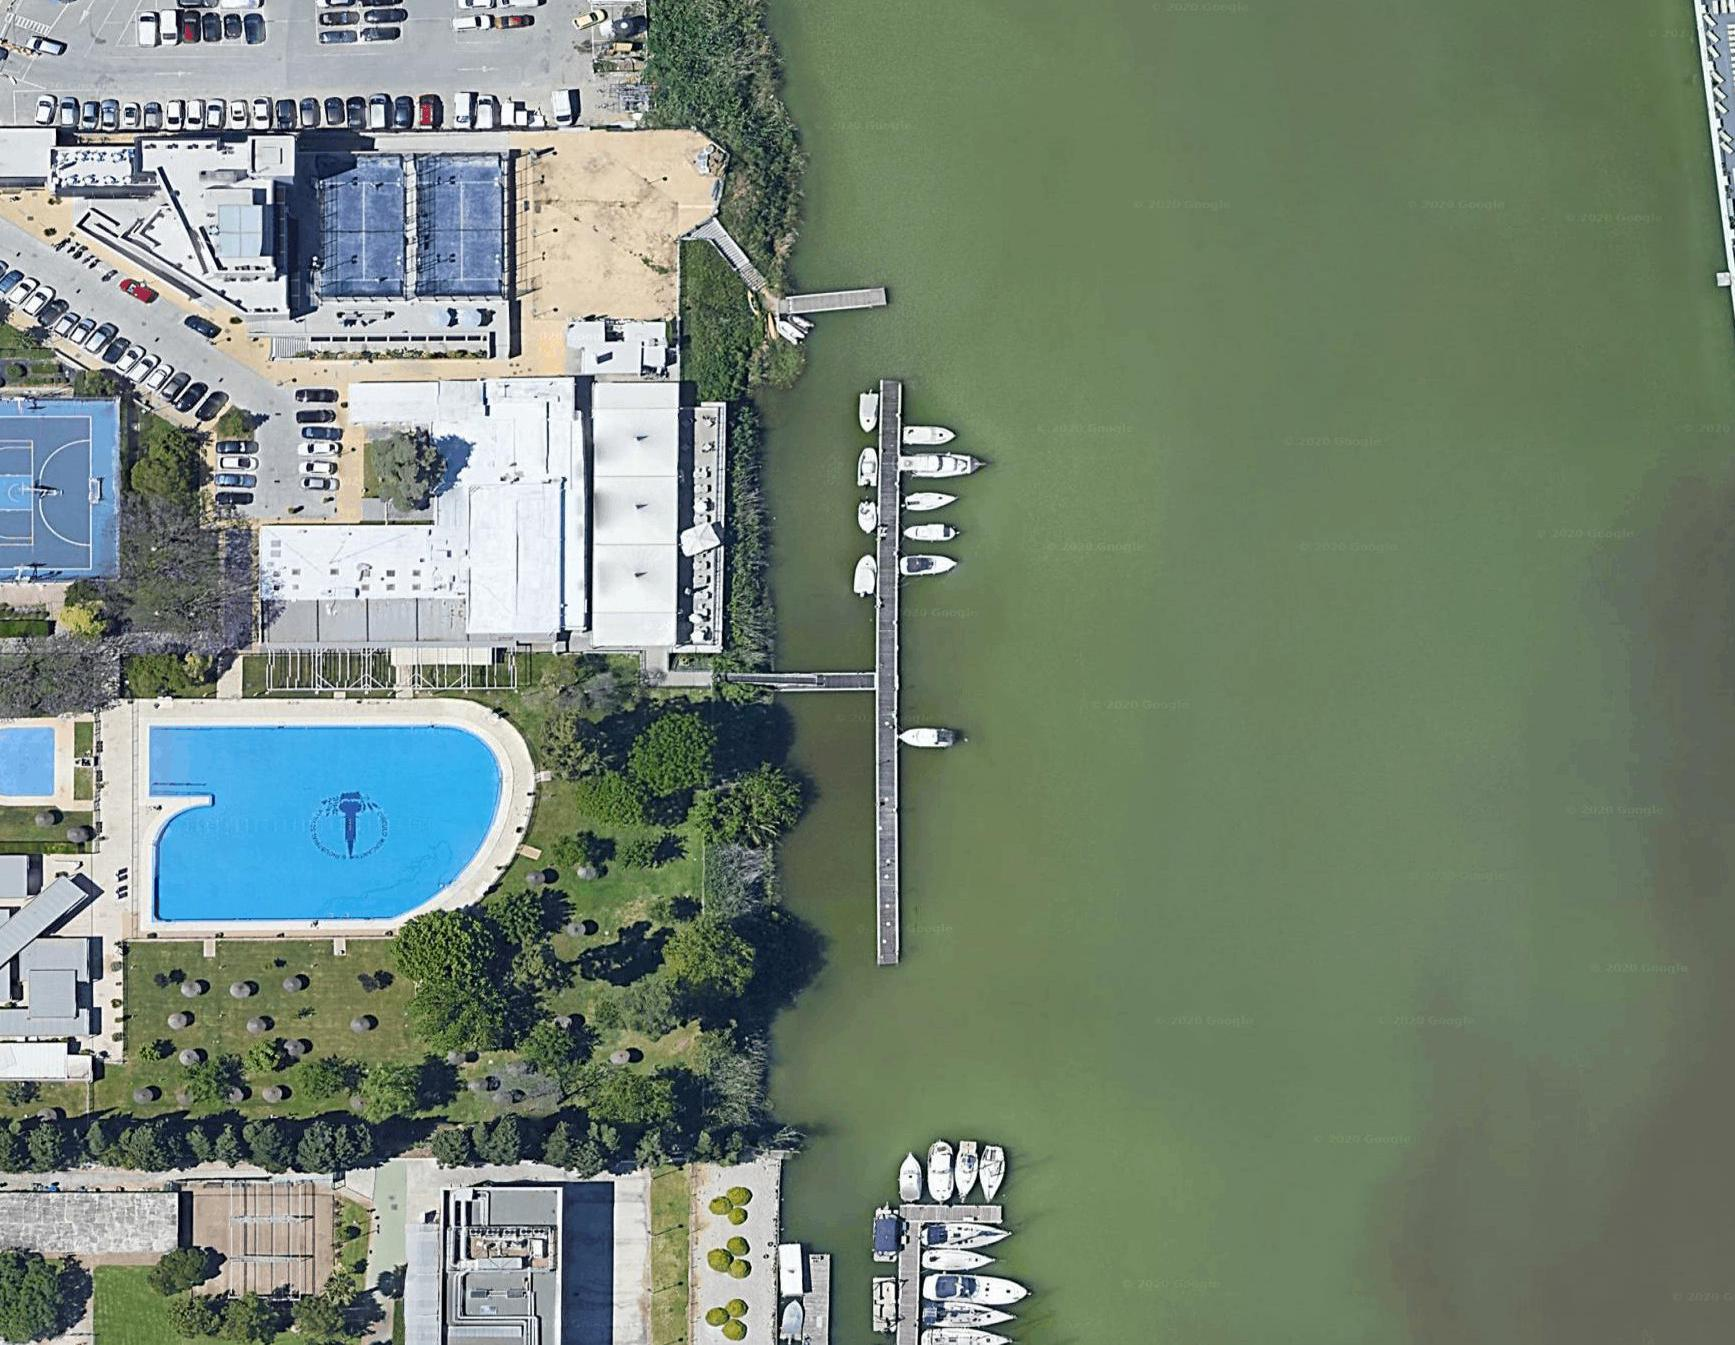basketball-court: (1, 392, 130, 580)
harbor: (844, 1173, 1044, 1345), (867, 368, 910, 979), (777, 284, 887, 323)
ship: (924, 1268, 1034, 1314), (931, 1139, 958, 1208), (904, 452, 980, 476), (898, 517, 960, 544), (898, 486, 960, 513), (900, 553, 962, 579), (896, 421, 958, 446), (984, 1144, 1008, 1201), (853, 553, 880, 601), (900, 1153, 922, 1206), (860, 500, 879, 535)
swimming-pool: (137, 720, 538, 965)
